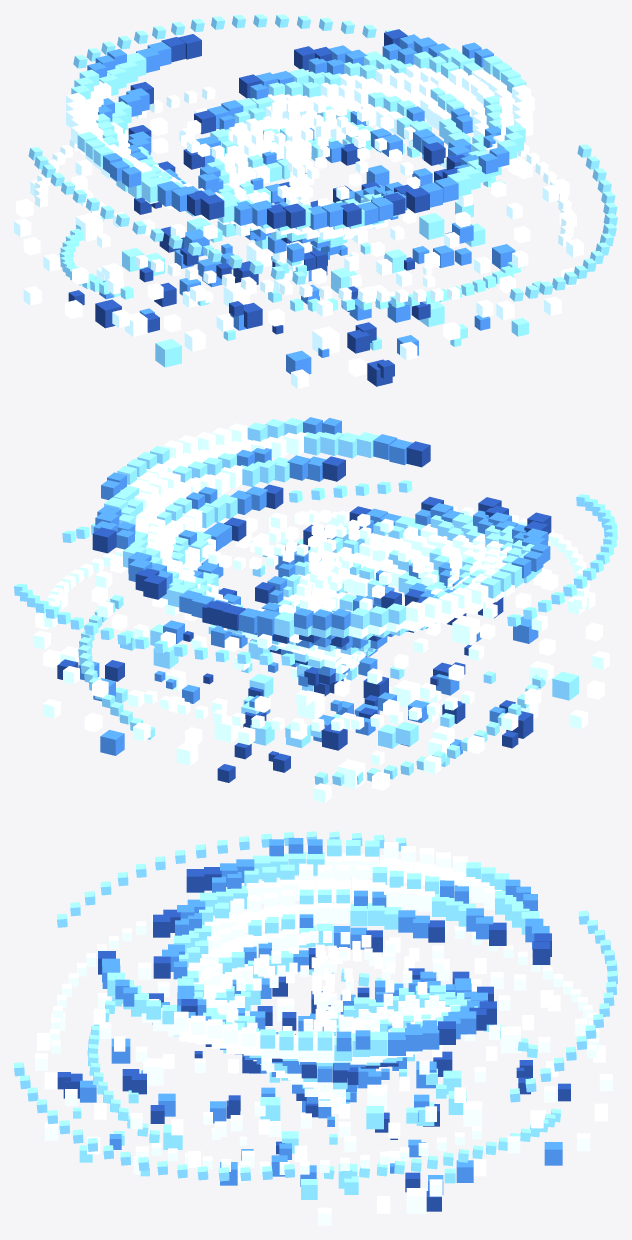
File: blizzard_vortex.glb
3 views of the same model, one above another, from view 1: azimuth 30°, elevation 25°; view 2: azimuth 150°, elevation 25°; view 3: azimuth 270°, elevation 25° (orthographic). The views are drawn at different scales.
Parts seen in each view (by area): view 1: GroundChunks, Funnel_11, Funnel_10, Stream_1, Stream_0, Funnel_09, Wind_2, Funnel_08, Wind_1, Funnel_07, Wind_0, Funnel_06 (+6 smaller); view 2: Funnel_11, GroundChunks, Stream_1, Funnel_10, Stream_0, Funnel_09, Wind_2, Funnel_08, Wind_1, Wind_0, Funnel_07, Funnel_05 (+6 smaller); view 3: Funnel_11, GroundChunks, Funnel_10, Stream_1, Stream_0, Funnel_09, Wind_2, Funnel_08, Wind_1, Wind_0, Funnel_07, Funnel_06 (+6 smaller).
Part boxes in pixels (x1,y1,x2,y2): GroundChunks: (68,158,541,386); Funnel_11: (66,29,534,220); Funnel_10: (96,43,501,228); Stream_1: (23,99,583,332); Stream_0: (14,113,569,388); Funnel_09: (128,58,473,231); Wind_2: (28,14,617,301); Funnel_08: (158,81,445,232); Wind_1: (34,86,574,302); Funnel_07: (183,106,413,235); Wind_0: (59,138,526,311); Funnel_06: (198,128,402,241); Funnel_11: (92,417,551,638); GroundChunks: (57,564,578,788); Stream_1: (43,509,609,745); Funnel_10: (116,448,526,642); Stream_0: (33,524,595,802); Funnel_09: (145,484,503,641); Wind_2: (14,480,617,665); Funnel_08: (171,506,476,643); Wind_1: (43,506,589,731); Wind_0: (78,539,545,785); Funnel_07: (193,520,451,648); Funnel_05: (244,560,401,658); Funnel_11: (98,838,551,1061); GroundChunks: (57,987,570,1214); Funnel_10: (148,863,506,1061); Stream_1: (44,931,612,1167); Stream_0: (35,945,597,1225); Funnel_09: (153,889,493,1062); Wind_2: (14,831,617,1181); Funnel_08: (173,914,476,1066); Wind_1: (50,912,599,1174); Wind_0: (87,968,560,1179); Funnel_07: (193,942,456,1070); Funnel_06: (214,976,434,1068).
Bounding box in the file's own units: 0.1177 × 0.0366 × 0.1119.
